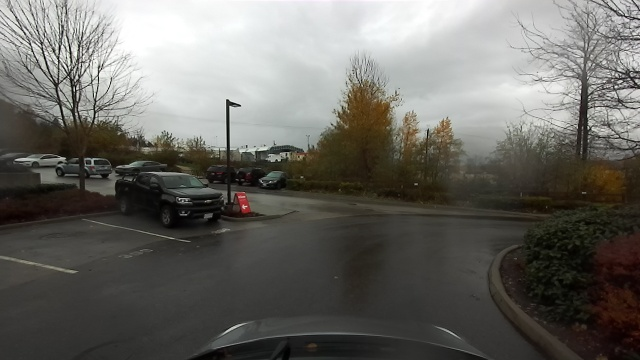car: (112, 174, 221, 225), (51, 154, 110, 179), (12, 146, 52, 167), (114, 159, 167, 172), (200, 162, 231, 181), (262, 168, 284, 187), (236, 167, 254, 185)
